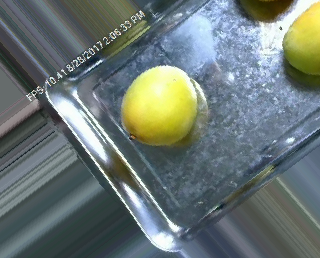Mango: (114, 61, 196, 146), (280, 2, 320, 77)
